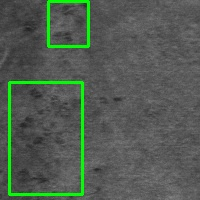rolled-in_scale: (9, 82, 82, 194), (48, 1, 88, 46)
